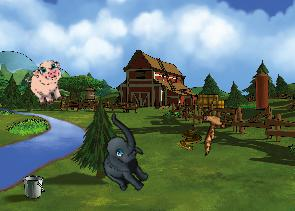eagle: (187, 99, 237, 156)
elephant: (79, 112, 168, 199)
pig: (22, 57, 72, 109)
